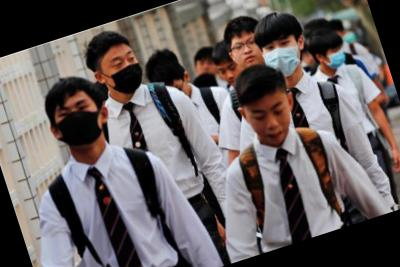with_mask: (50, 94, 108, 154), (99, 46, 150, 101), (259, 32, 307, 83), (326, 45, 350, 72)
without_mask: (247, 96, 301, 149), (230, 33, 265, 71), (216, 60, 243, 90), (194, 55, 220, 81)
